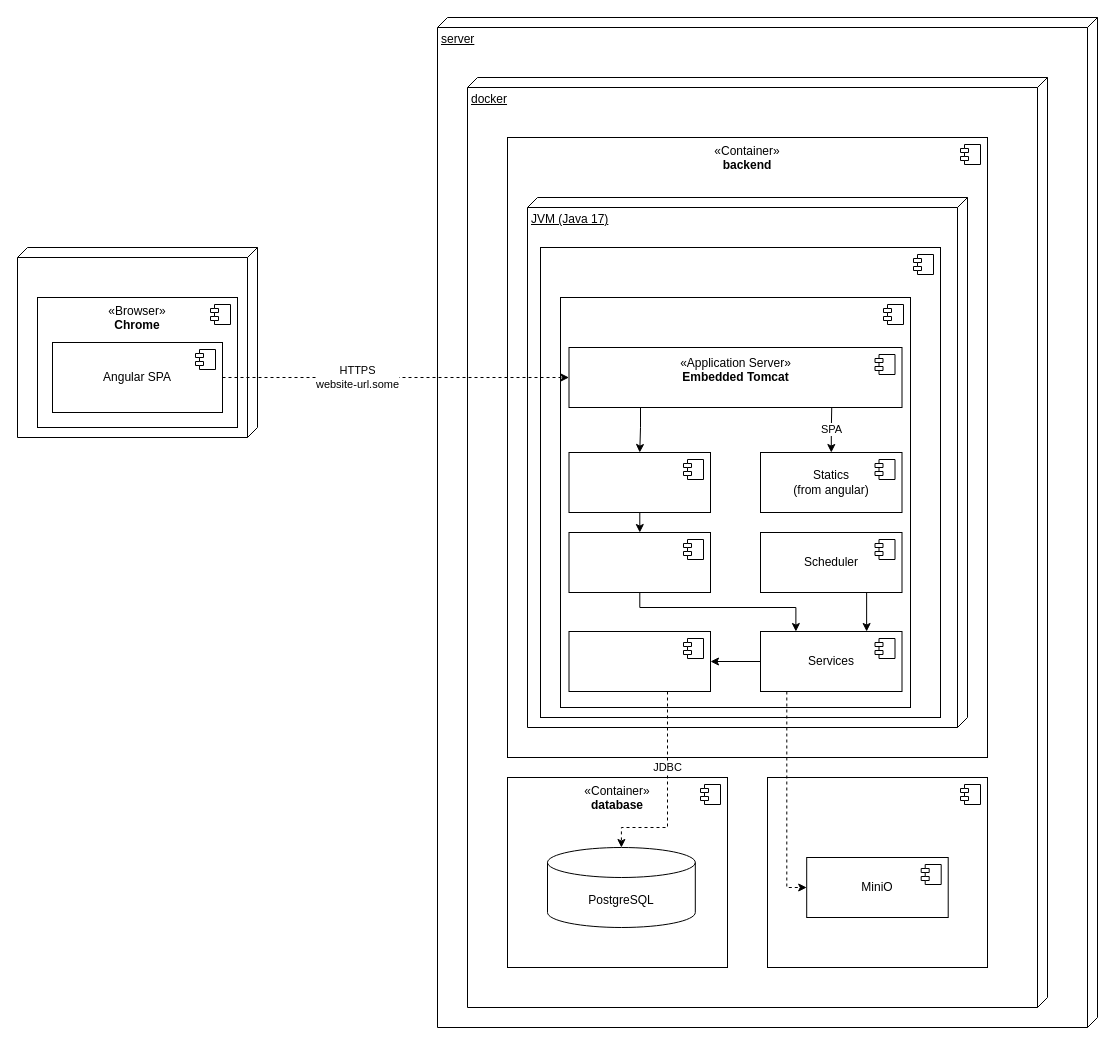
Some shapes in this 1115 by 1045 pixel diagram are drawn without their labels. Here are the shapes that lost their labels. From the top down, the box of each, then its label:
(16, 246, 258, 438): client
(568, 452, 710, 512): Spring Security
(560, 296, 910, 708): «Framework» Spring Boot
(540, 246, 940, 718): «Artifact» app.jar
(568, 532, 710, 592): REST Controllers
(568, 630, 710, 692): Spring Data (Hibernate)
(766, 776, 988, 968): «Container» MiniO
